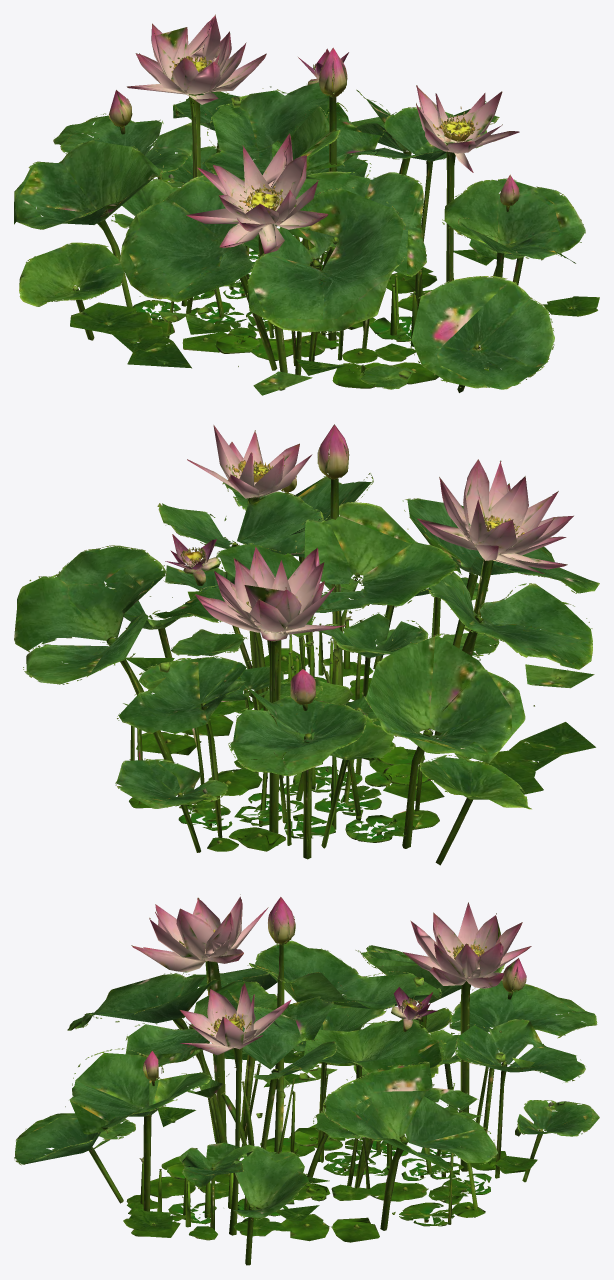
The model's file is lotus.glb.
3 renders of one model, top to bottom at view 1: azimuth 30°, elevation 25°; view 2: azimuth 150°, elevation 25°; view 3: azimuth 270°, elevation 25°, orthographic. The views are drawn at different scales.
Parts seen in each view (by area): view 1: geometry_0; view 2: geometry_0; view 3: geometry_0.
Boxes of the visible parts, bbox=[...] form: geometry_0: bbox=[14, 14, 599, 395]; geometry_0: bbox=[14, 424, 599, 865]; geometry_0: bbox=[14, 894, 599, 1265].
Bounding box in the file's own units: 0.9088 × 0.5525 × 0.9959.
1 material, 1 textured.
